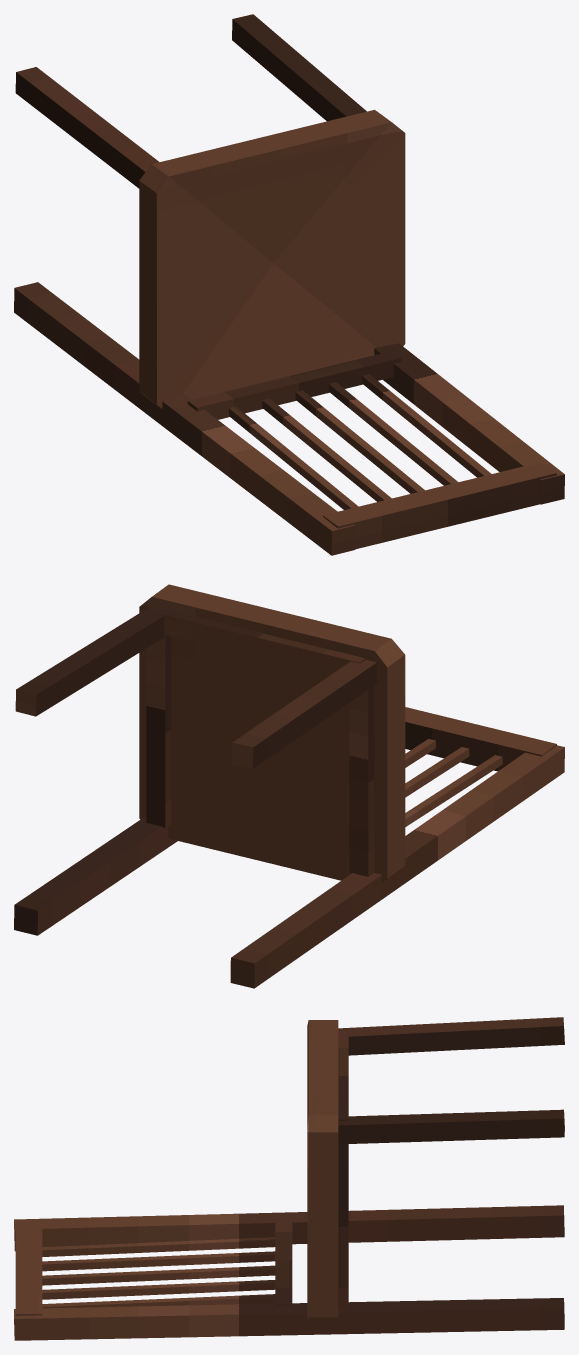
The model's file is pz_chair_seating_indoor_02_dark_wooden_fidelity_r1.obj.
3 views of the same model, one above another, from view 1: azimuth 30°, elevation 25°; view 2: azimuth 150°, elevation 25°; view 3: azimuth 270°, elevation 25° (orthographic). The views are drawn at different scales.
Parts seen in each view (by area): view 1: seat, wood; view 2: wood, seat; view 3: wood, seat.
Part boxes in pixels (bbox=[...]): seat: bbox=[139, 109, 405, 408]; wood: bbox=[14, 14, 564, 555]; wood: bbox=[14, 607, 564, 988]; seat: bbox=[139, 584, 405, 882]; wood: bbox=[14, 1017, 564, 1340]; seat: bbox=[307, 1020, 338, 1319].
Bounding box in the file's own units: 0.4904 × 0.4816 × 1.08.
Materials: 1 (1 with a texture image).
